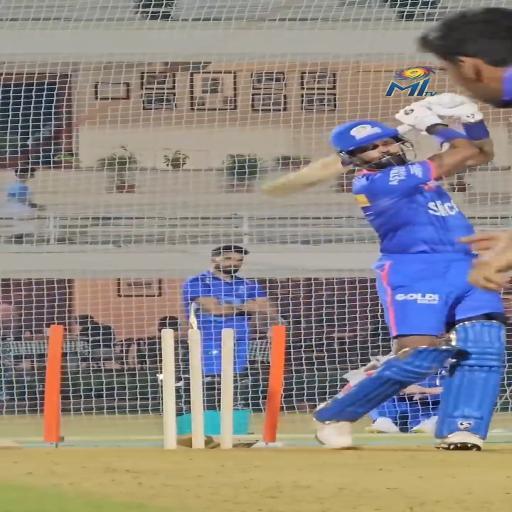Cricket bat: (263, 154, 348, 197), (398, 124, 414, 134)
